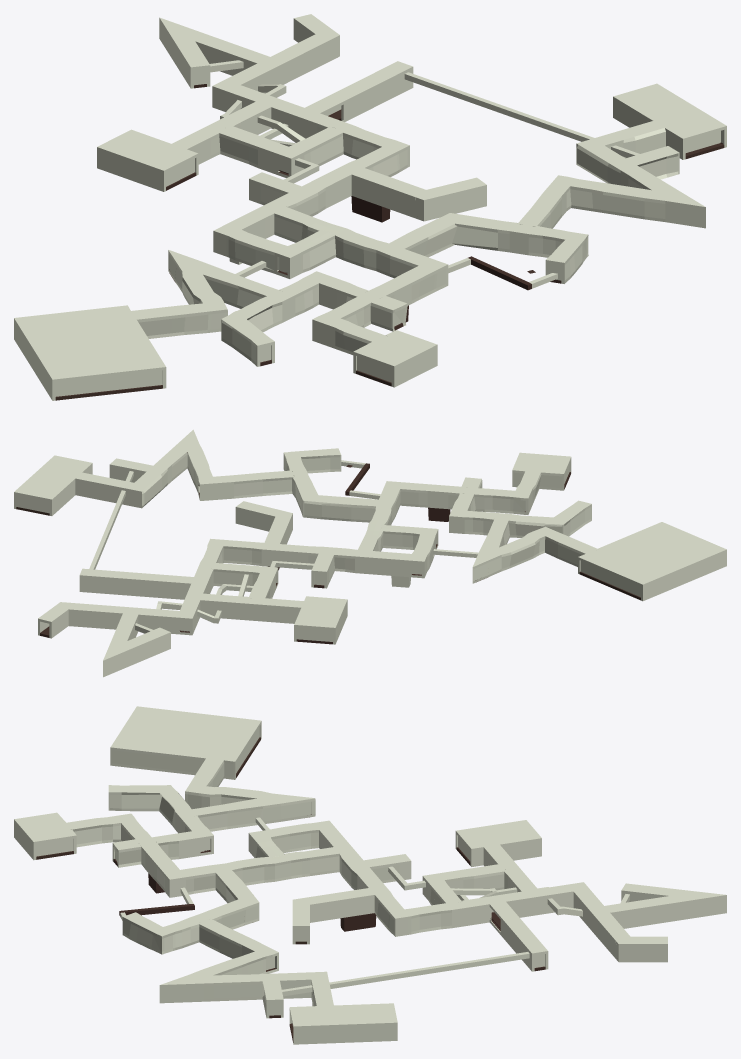
The model's file is house_maze_edited-1.fbx.
3 views of the same model, one above another, from view 1: azimuth 30°, elevation 25°; view 2: azimuth 150°, elevation 25°; view 3: azimuth 270°, elevation 25° (orthographic). The views are drawn at different scales.
Visible parts, largest first — view 1: Maze; view 2: Maze; view 3: Maze.
Part boxes in pixels (x1,y1,x2,y2): Maze: [14, 14, 726, 400]; Maze: [14, 429, 726, 677]; Maze: [14, 706, 726, 1044].
Size of the model in its own units: 264 by 13 by 248.
